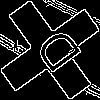D: (25, 25, 84, 82)
